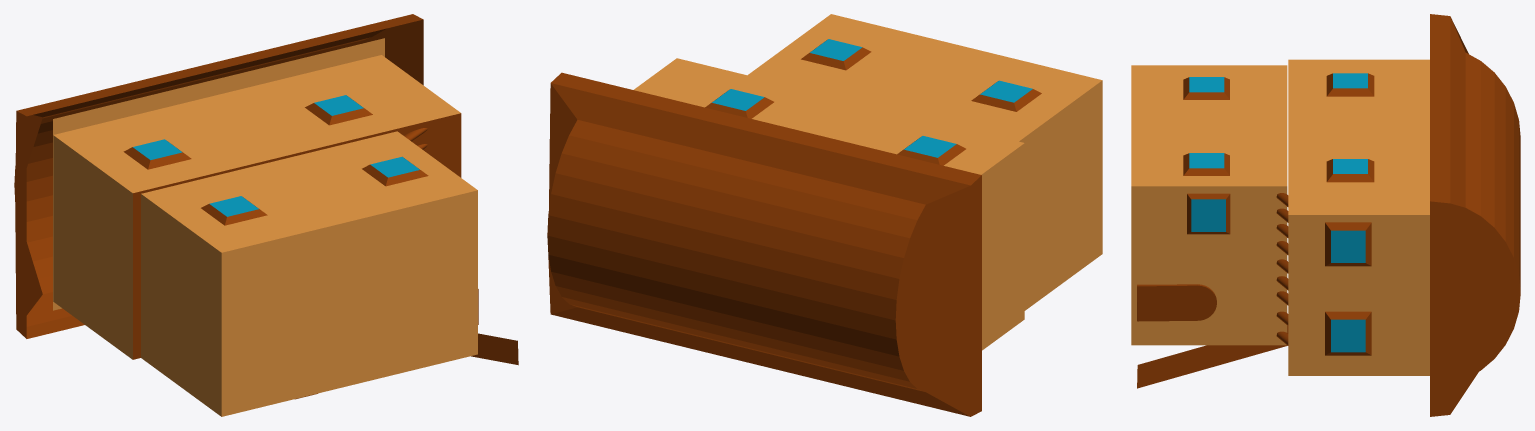
The model's file is HouseTypeB.fbx.
The picture shows the model from 3 angles, left to right: view 1: azimuth 30°, elevation 25°; view 2: azimuth 150°, elevation 25°; view 3: azimuth 270°, elevation 25°; orthographic projection. The views are drawn at different scales.
Parts seen in each view (by area): view 1: Cube; view 2: Cube; view 3: Cube.
Part boxes in pixels (bbox=[...]): Cube: bbox=[14, 14, 518, 416]; Cube: bbox=[547, 14, 1102, 416]; Cube: bbox=[1131, 14, 1520, 416].
Size of the model in its own units: 183 by 102 by 161.
